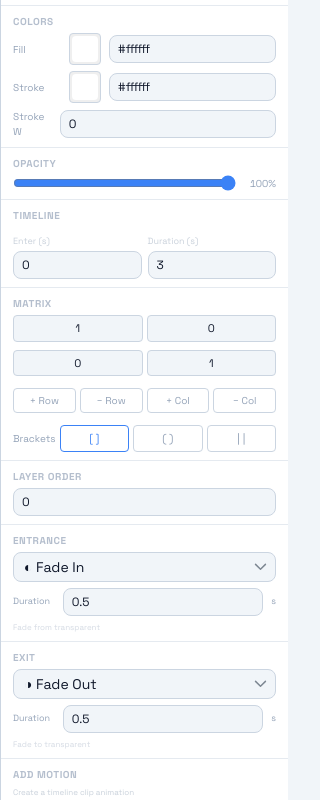
Test: matrix inspector › Add Row button grows the grid to 6 cells (3x2)
(page scrolled)
Click the button with test id "matrix-add-row": coordinates (44, 400) [13,388,76,413]
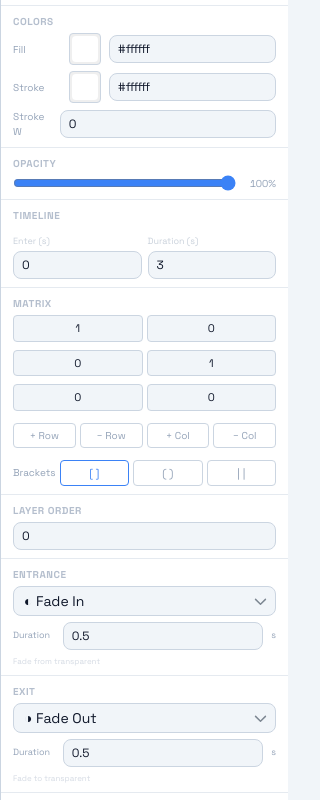
expect the number of fields with test id "matrix-cell" is 6: met, box [13,315,142,342]; [146,315,276,342]; [13,350,142,376]; [146,350,276,376]; [13,384,142,410]; [146,384,276,410]
